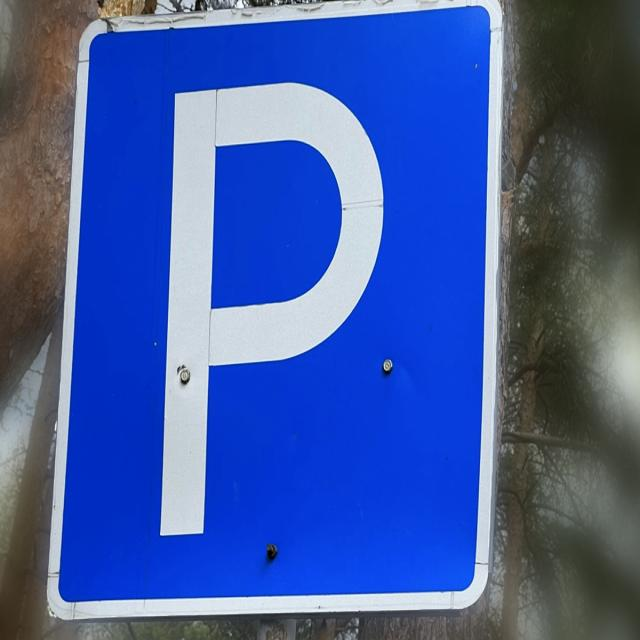parking: (35, 1, 514, 625)
